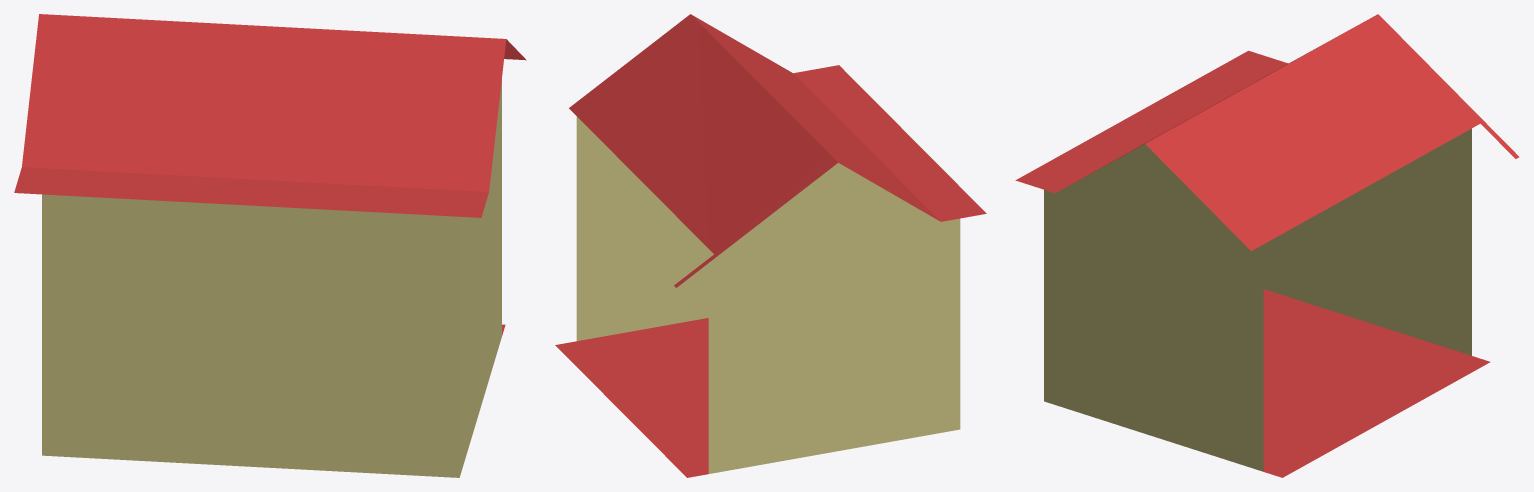
The picture shows the model from 3 angles, left to right: view 1: azimuth 30°, elevation 25°; view 2: azimuth 150°, elevation 25°; view 3: azimuth 270°, elevation 25°; orthographic projection. The views are drawn at different scales.
Bounding box in the file's own units: 11.83 × 12.27 × 8.08.
